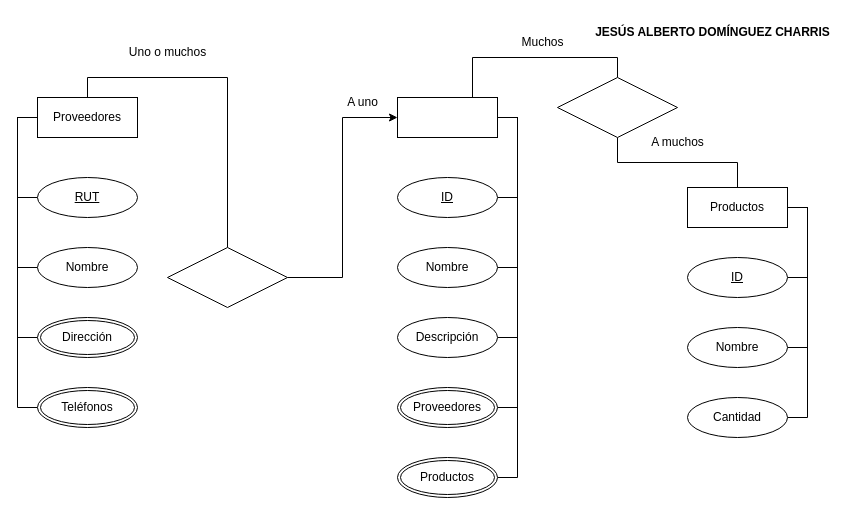
The diagram is 860 pixels wide and 515 high, and some of its shapes have lost their labels. Here are the shapes that lost their labels. From the top down, the centre of each, then its label:
At pixel 447 117: "Componentes".
At pixel 617 107: "Producir".
At pixel 227 277: "Suministrar".
